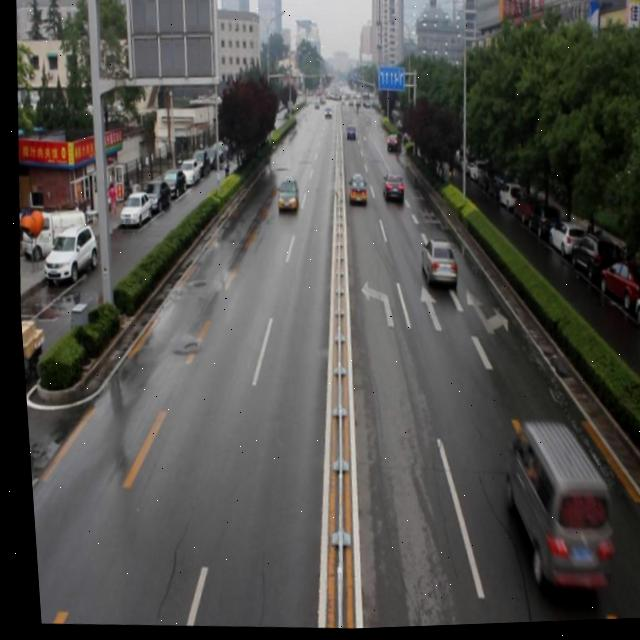car: (415, 238, 455, 287), (272, 177, 298, 214), (378, 171, 402, 206), (343, 174, 366, 208), (383, 136, 399, 158)
truck: (489, 418, 614, 604)
